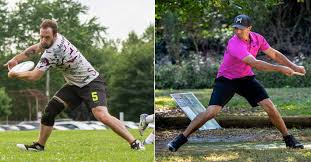disc: (10, 61, 34, 79), (291, 69, 305, 79)
